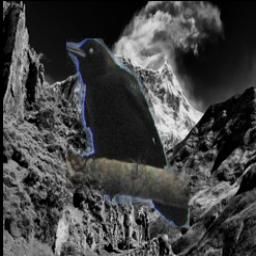Crow: (65, 39, 189, 228)
